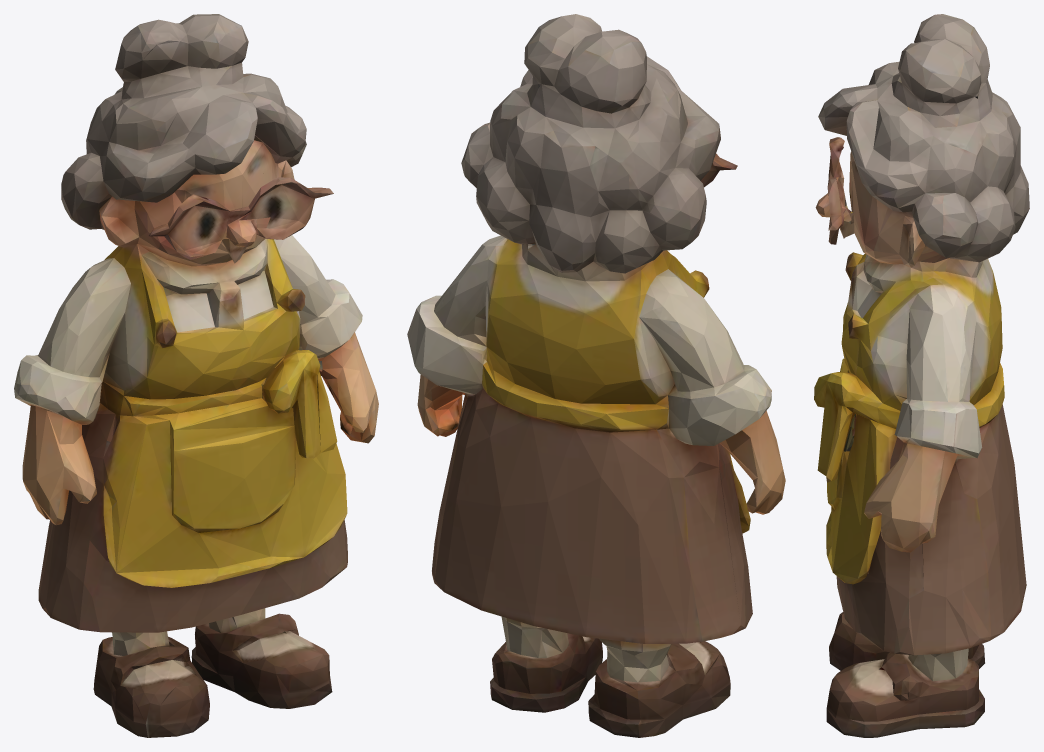
Rendered from mabel.glb.
3 renders of one model, left to right at view 1: azimuth 30°, elevation 25°; view 2: azimuth 150°, elevation 25°; view 3: azimuth 270°, elevation 25°, orthographic. The views are drawn at different scales.
Parts seen in each view (by area): view 1: geometry_0; view 2: geometry_0; view 3: geometry_0.
Boxes of the visible parts, x1=… form: geometry_0: x1=14, y1=14, x2=378, y2=737; geometry_0: x1=407, y1=14, x2=785, y2=737; geometry_0: x1=814, y1=14, x2=1029, y2=737.
Size of the model in its own units: 0.544 by 0.999 by 0.2978.
1 material, 1 textured.
